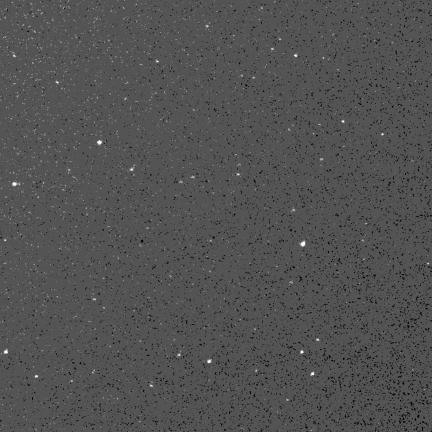blob: (300, 241, 305, 247), (207, 360, 212, 364), (98, 141, 102, 145), (4, 350, 8, 353), (311, 372, 314, 375)
